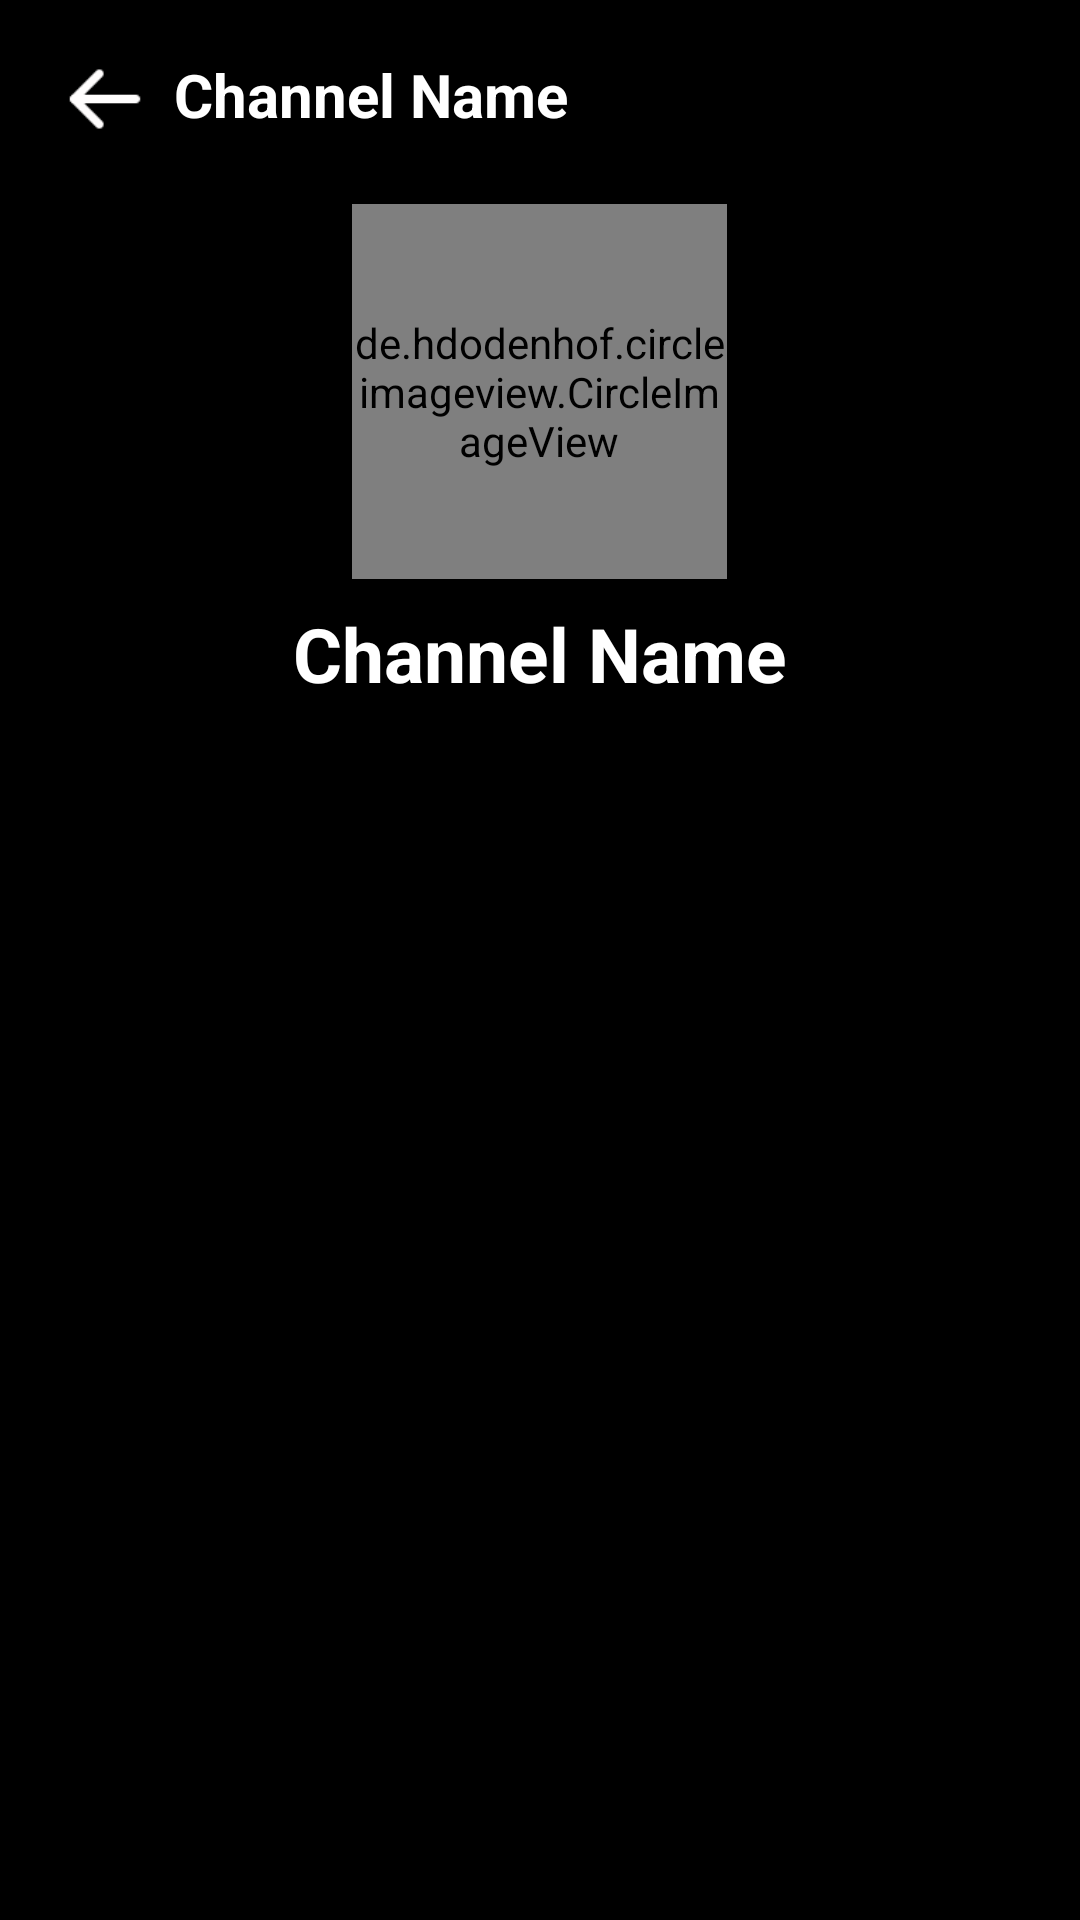

Point at icon controls on the screen. Image size 1080×1920, points as [x,y].
back: [105,99]
